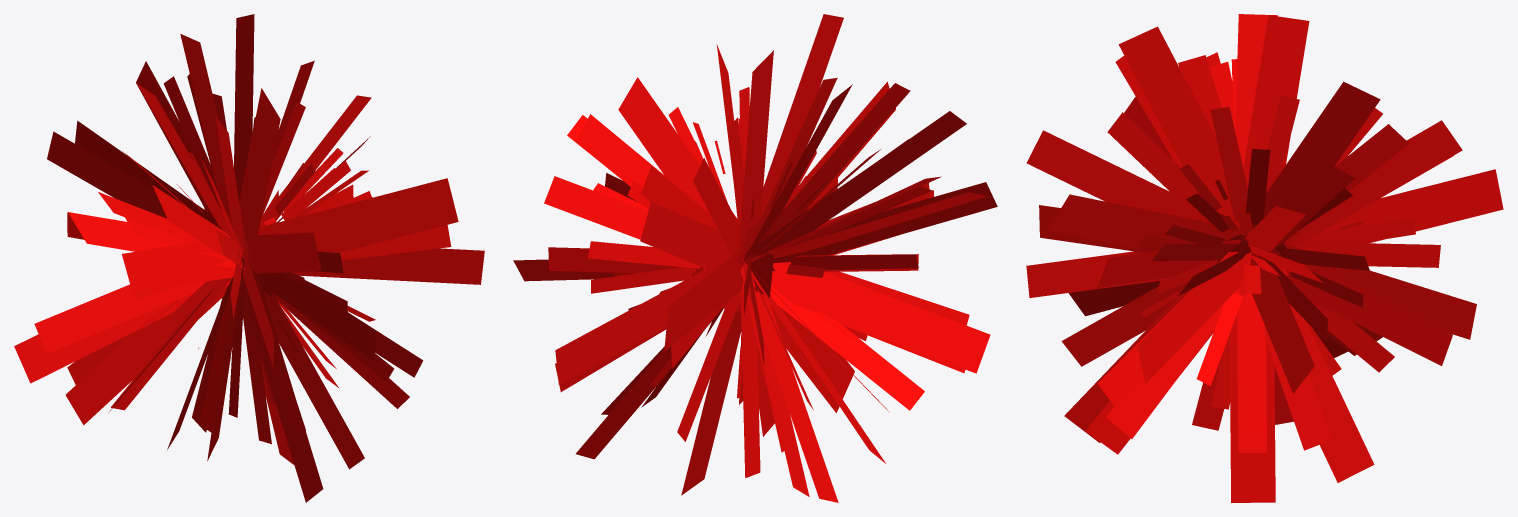
File: tinsel.fbx
3 views of the same model, side by side, from view 1: azimuth 30°, elevation 25°; view 2: azimuth 150°, elevation 25°; view 3: azimuth 270°, elevation 25° (orthographic). The views are drawn at different scales.
Visible parts, largest first — view 1: tinsel_point.lod0; view 2: tinsel_point.lod0; view 3: tinsel_point.lod0.
Boxes of the visible parts, <box> form: tinsel_point.lod0: <box>14,14,484,502</box>; tinsel_point.lod0: <box>513,14,997,502</box>; tinsel_point.lod0: <box>1026,14,1503,502</box>.
Size of what is drawn, in the model's own units: 33.58 by 36.88 by 35.74.
